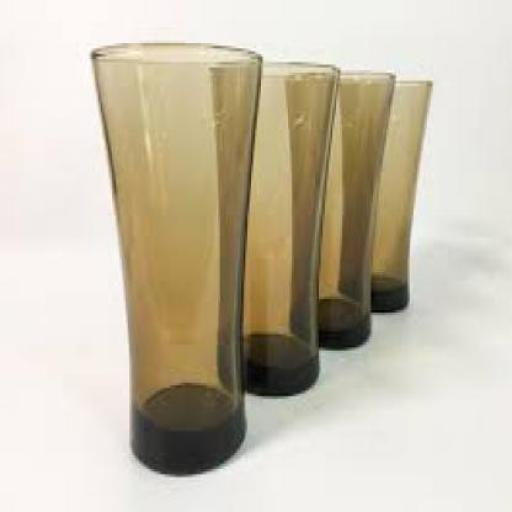glass: (88, 40, 264, 474), (208, 59, 338, 396), (282, 67, 394, 348), (353, 75, 431, 313)
